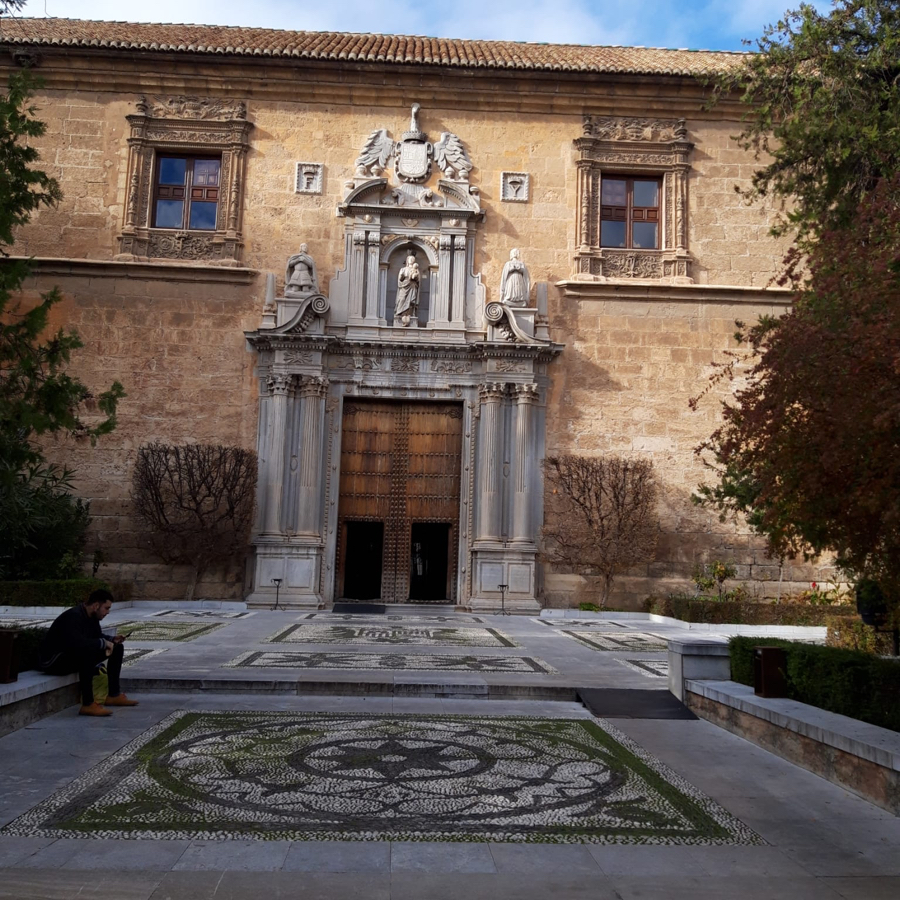arco-medio-punto: (382, 236, 436, 276)
fronton-partido: (241, 294, 558, 348), (341, 178, 478, 216)
vano-adintelado: (314, 370, 475, 608), (116, 128, 251, 243), (570, 149, 685, 269)
